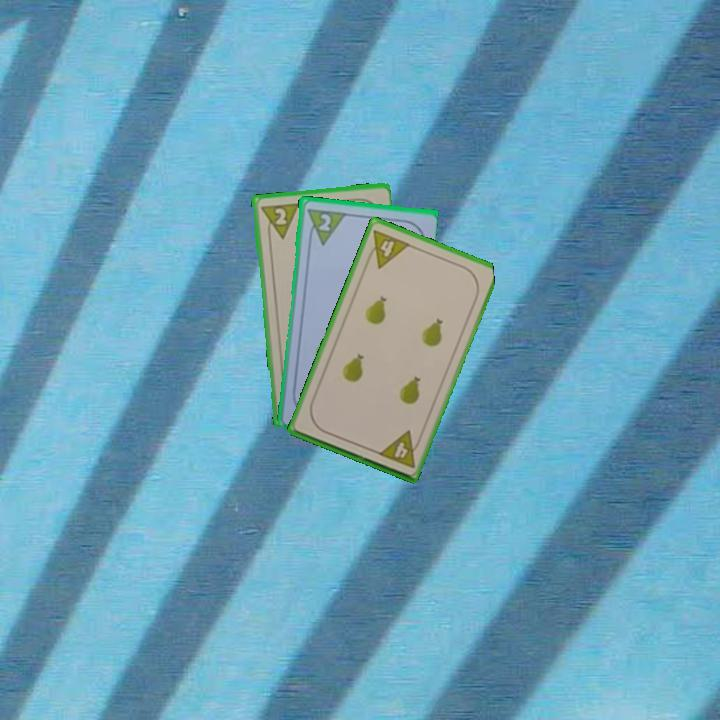2p: (256, 199, 301, 243), (315, 210, 334, 234)
4p: (362, 226, 413, 271), (374, 427, 425, 471)
